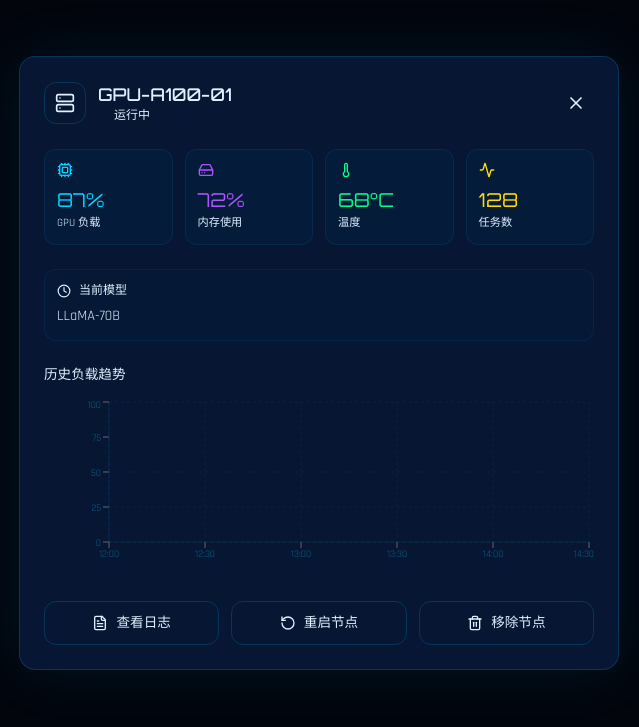
it: NodeDetailModal › 查看日志交互 › 日志面板应显示节点 ID
The image size is (639, 727).
Click the button with test id "view-logs-btn". click: (132,623)
box: [44,601,219,645]
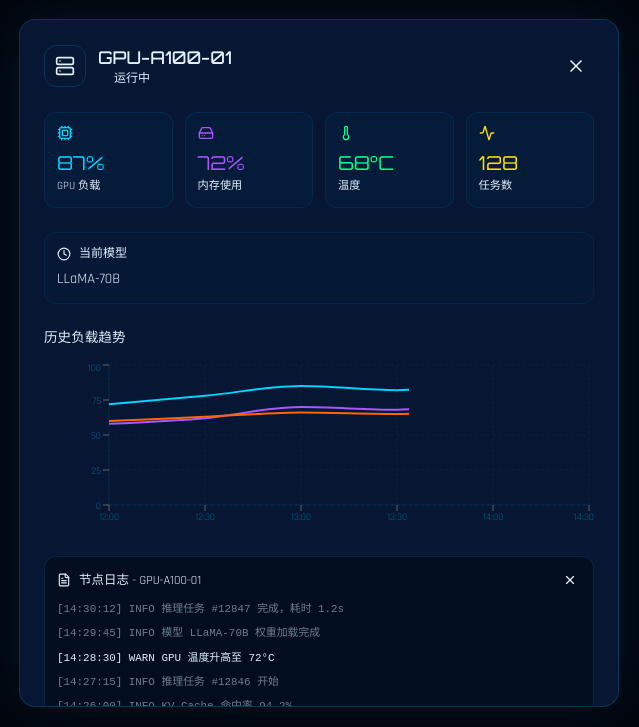
Expected: the text "节点日志 - GPU-A100-01" is shown, [79,571,201,590]
